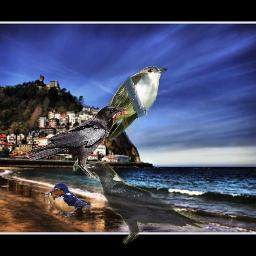Crow: (81, 161, 207, 246), (24, 103, 138, 179)
Cuckoo: (71, 65, 168, 174)
Swallow: (46, 182, 93, 218)
